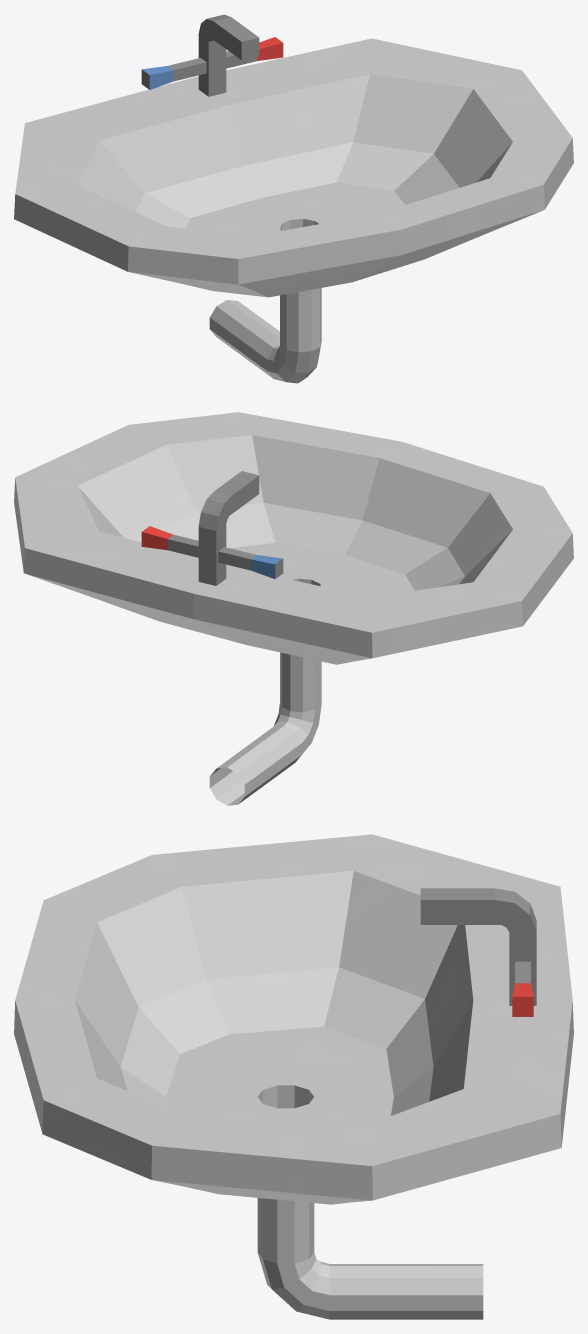
File: Restroom_Sink.fbx
The picture shows the model from 3 angles, top to bottom: view 1: azimuth 30°, elevation 25°; view 2: azimuth 150°, elevation 25°; view 3: azimuth 270°, elevation 25°; orthographic projection. The views are drawn at different scales.
Visible parts, largest first — view 1: Restroom_Sink; view 2: Restroom_Sink; view 3: Restroom_Sink.
Part boxes in pixels (x1=…): Restroom_Sink: x1=14, y1=14, x2=573, y2=383; Restroom_Sink: x1=14, y1=412, x2=573, y2=805; Restroom_Sink: x1=14, y1=834, x2=573, y2=1319.
Size of the model in its own units: 0.9897 by 0.5862 by 0.7029.
